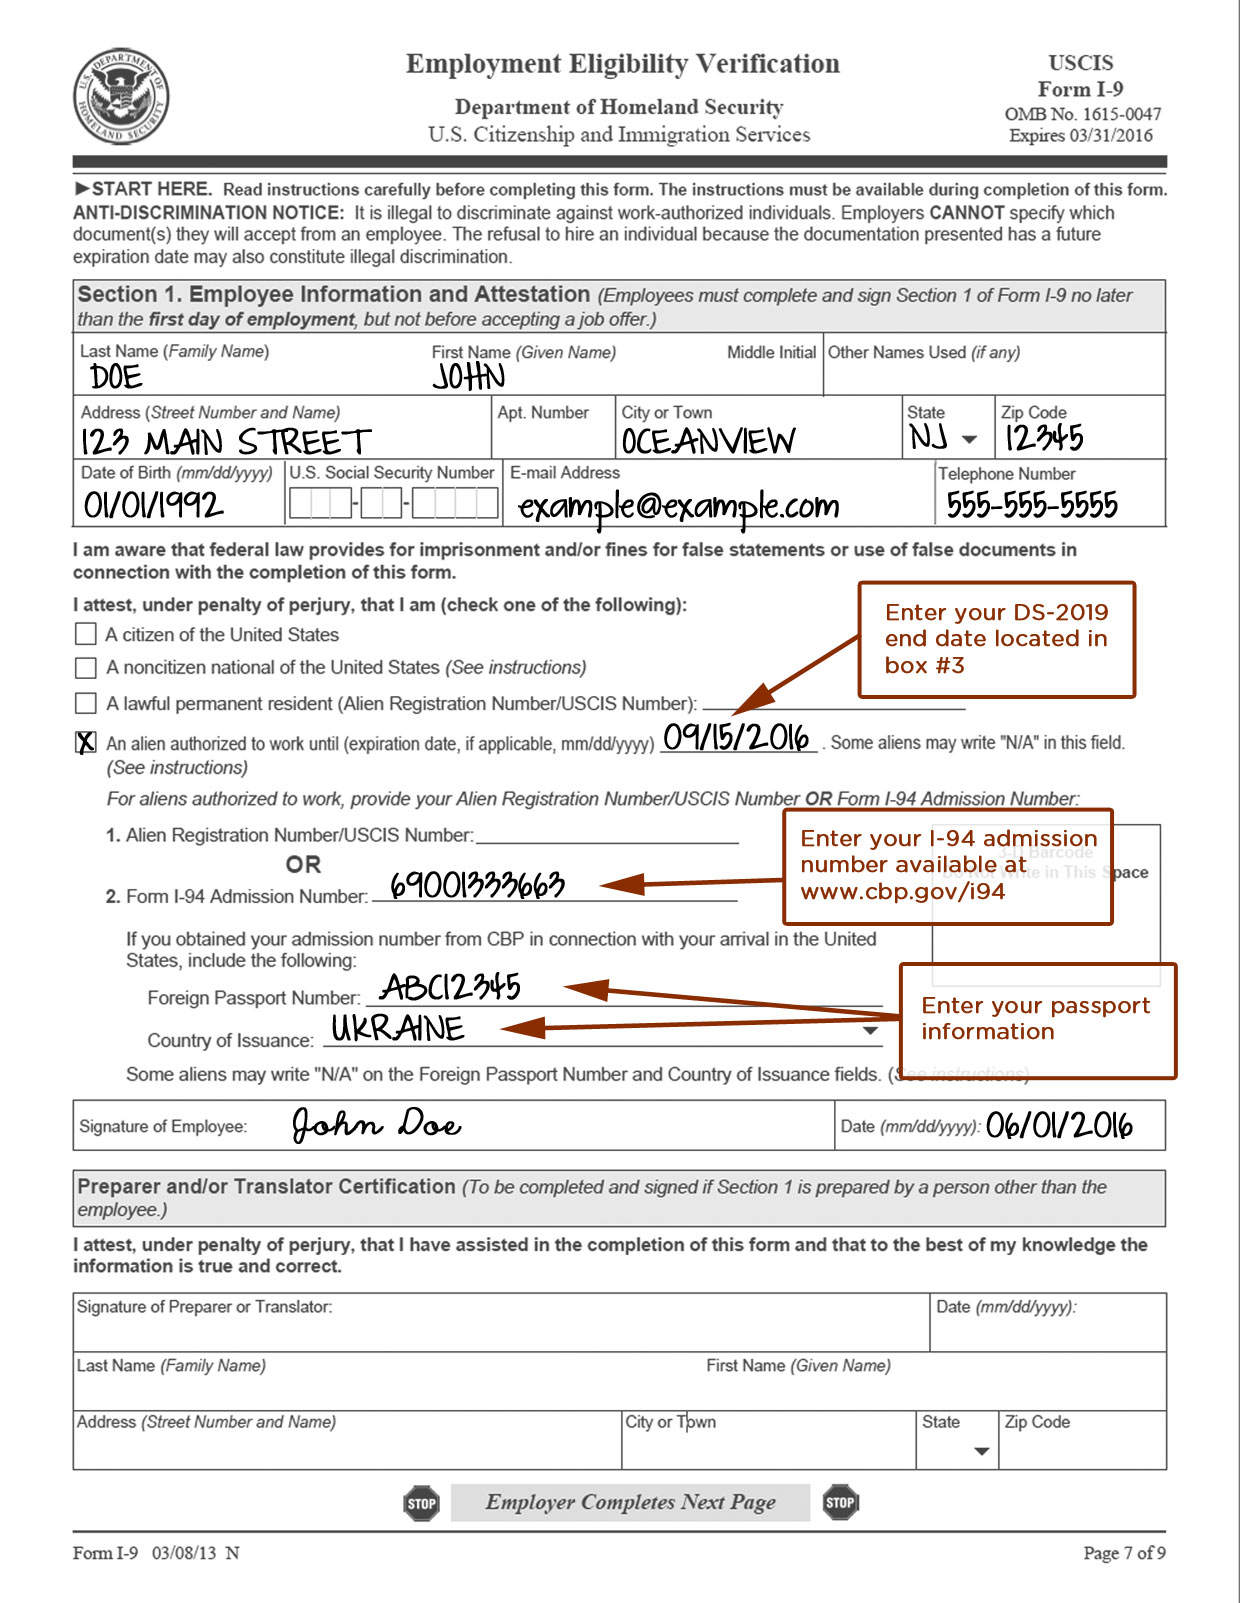table: (74, 278, 1166, 527), (74, 1296, 1167, 1469)
